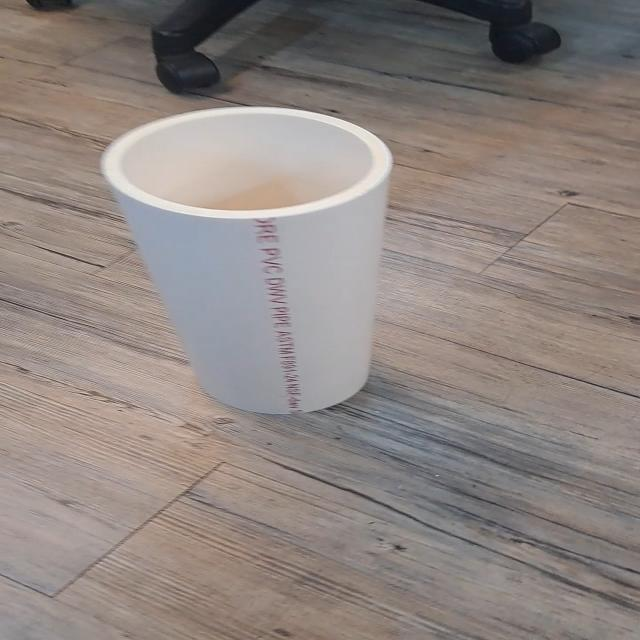CORAL: (66, 107, 499, 433)
